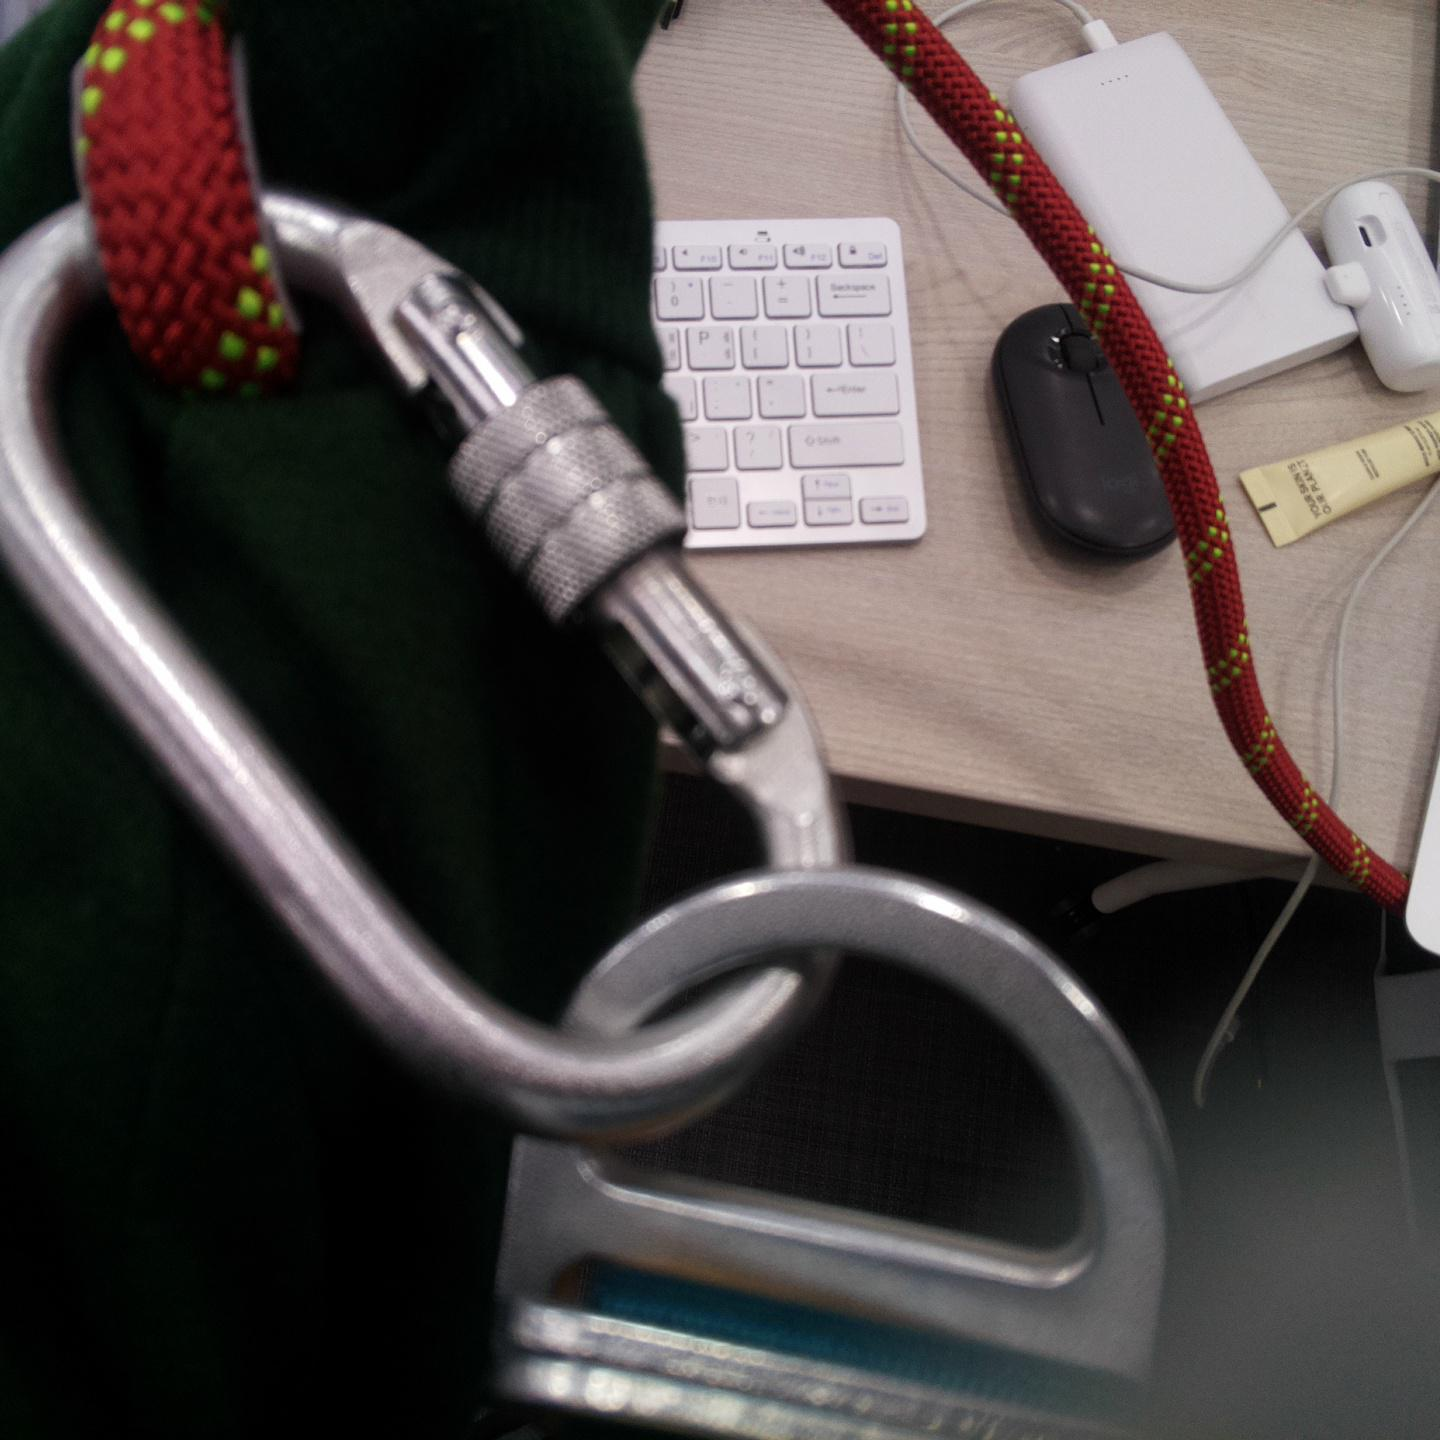SUCCESS: (407, 367, 673, 703)
